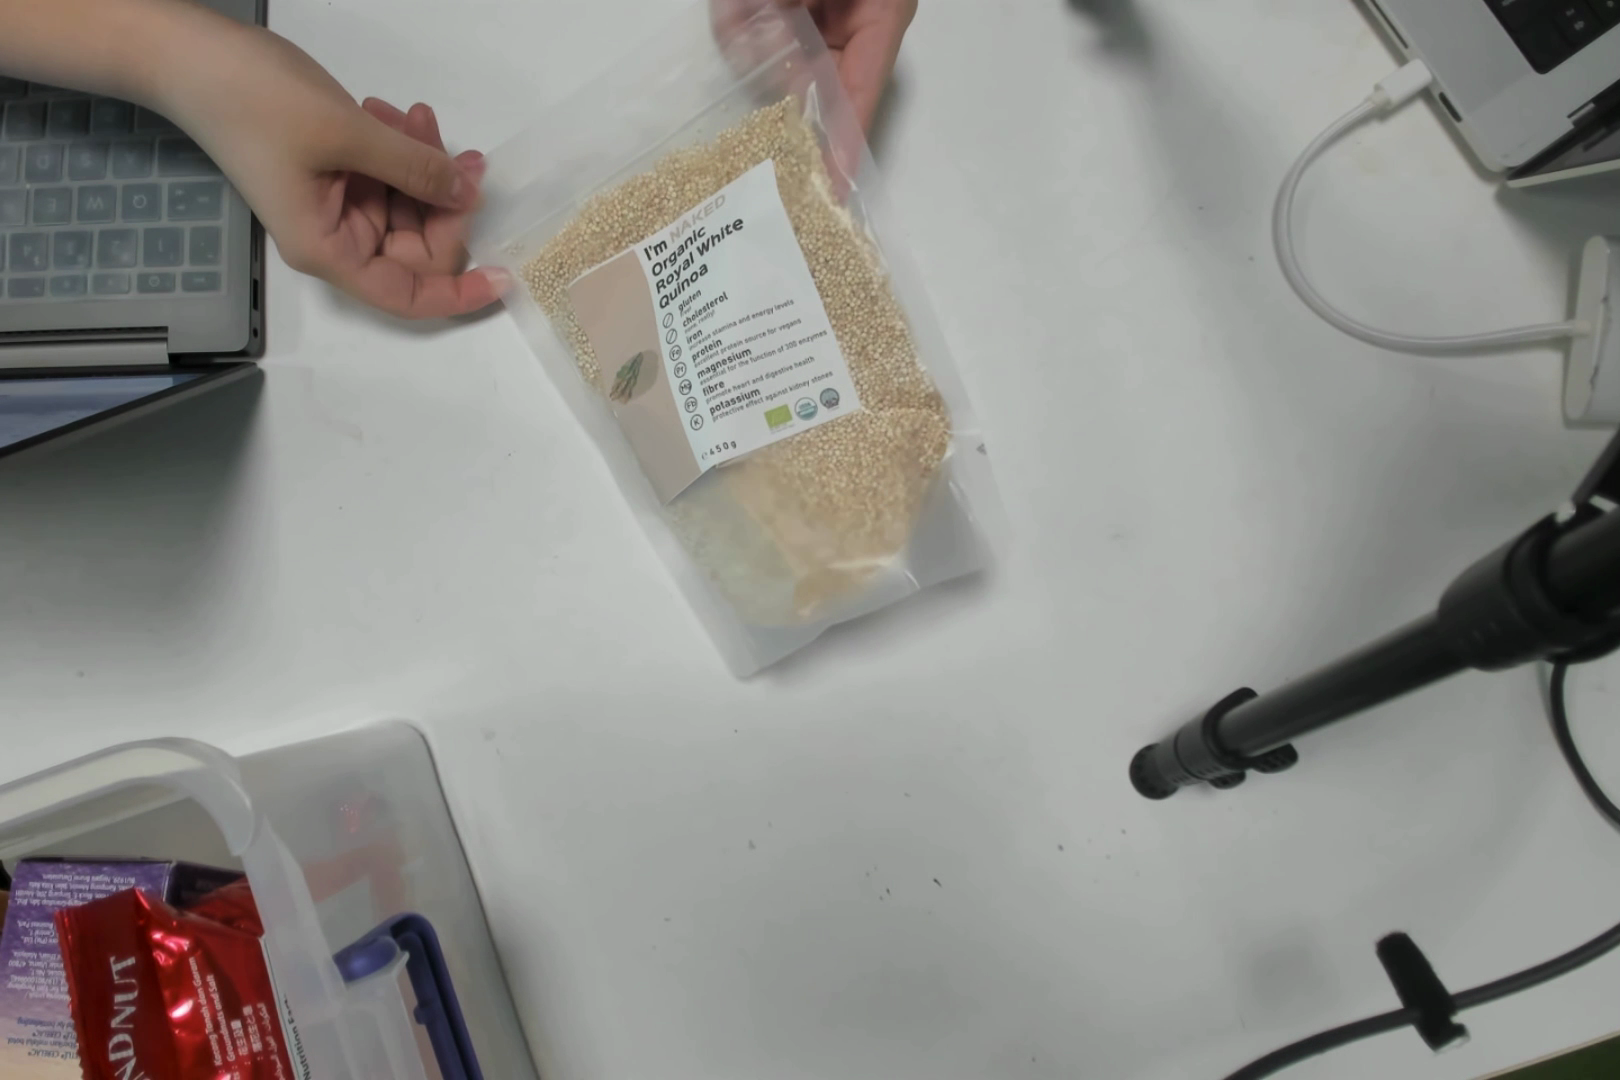Rice(brown-others)_400-499g_Halal_NonHealthy: (589, 137, 968, 677)
